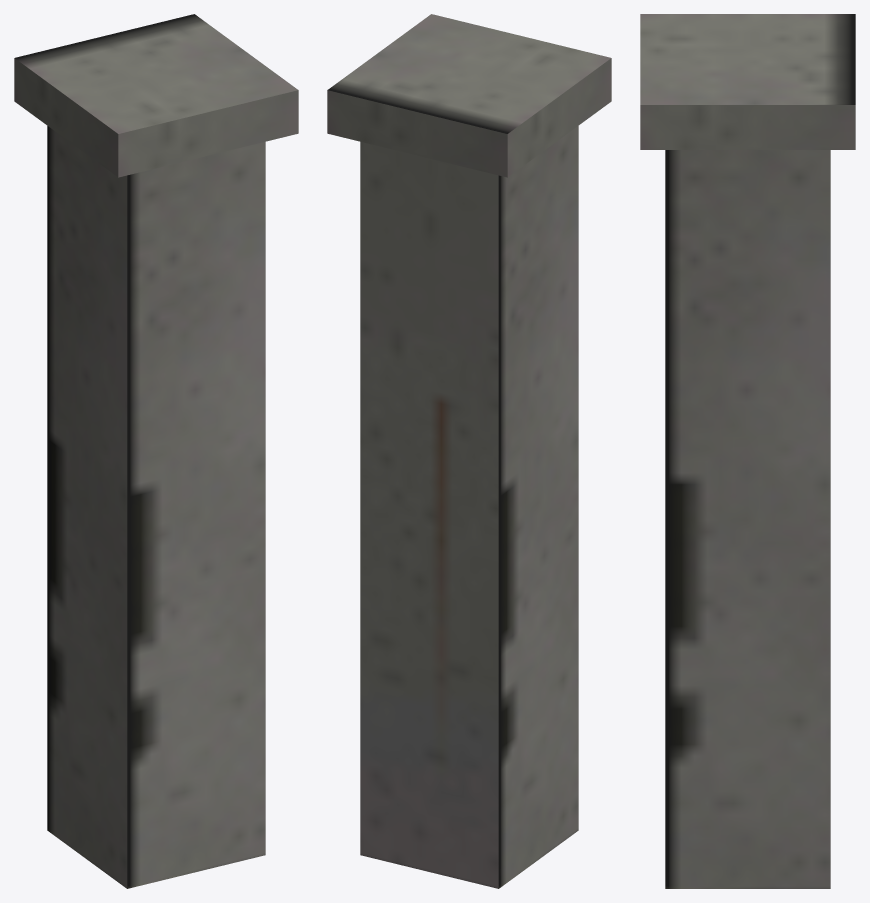
The model's file is wall_post_low_stone.fbx.
3 renders of one model, left to right at view 1: azimuth 30°, elevation 25°; view 2: azimuth 150°, elevation 25°; view 3: azimuth 270°, elevation 25°, orthographic. The views are drawn at different scales.
Parts seen in each view (by area): view 1: wall_post_low_stone; view 2: wall_post_low_stone; view 3: wall_post_low_stone.
Boxes of the visible parts, x1,y1,x2,y2 form: wall_post_low_stone: [14, 14, 298, 888]; wall_post_low_stone: [327, 14, 611, 888]; wall_post_low_stone: [640, 14, 855, 888].
Size of the model in its own units: 0.26 by 1.06 by 0.26.
